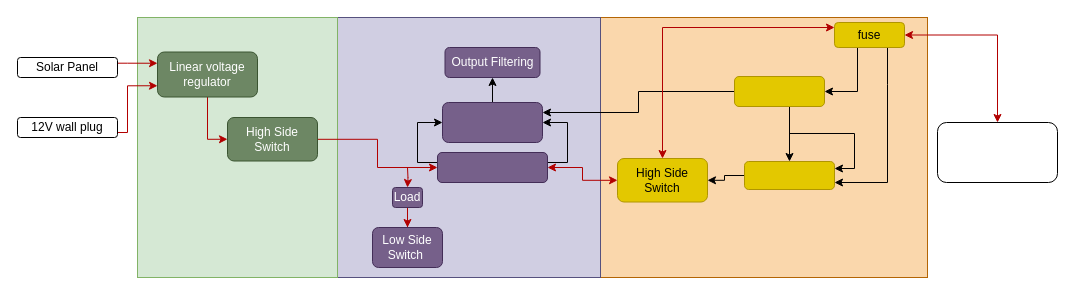
Image size: 1075x295. Some labels were removed from this diagram. The centre of each missing label's shape, as x and y in pixels:
5V regulator: [779,91]
Battery: [997,152]
Current sense amplifier: [492,122]
Current sense Resistor: [492,167]
Schmidt trigger: [789,175]
